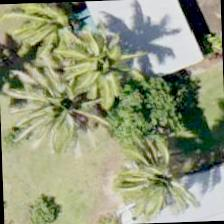Kelapa_Sawit: (16, 64, 108, 157), (113, 133, 207, 223)
